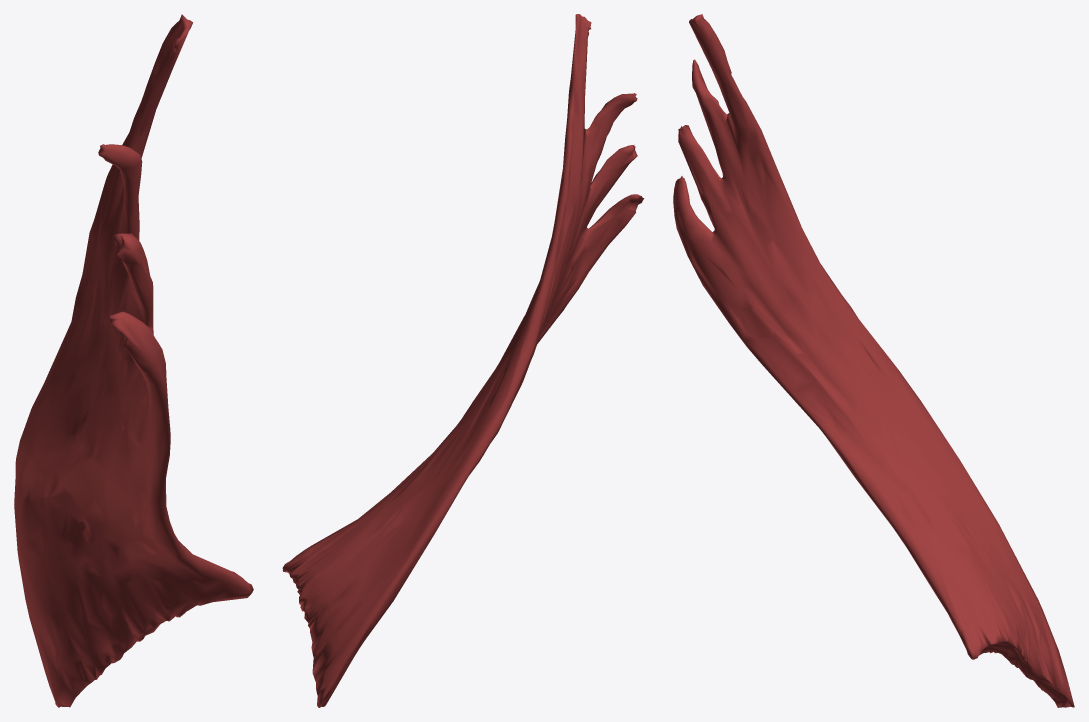
File: levator-scapulae-l.glb
3 renders of one model, left to right at view 1: azimuth 30°, elevation 25°; view 2: azimuth 150°, elevation 25°; view 3: azimuth 270°, elevation 25°, orthographic. The views are drawn at different scales.
Parts seen in each view (by area): view 1: Levator scapulae.l; view 2: Levator scapulae.l; view 3: Levator scapulae.l.
Part boxes in pixels (x1=…): Levator scapulae.l: x1=14, y1=14, x2=253, y2=707; Levator scapulae.l: x1=282, y1=14, x2=644, y2=707; Levator scapulae.l: x1=673, y1=14, x2=1074, y2=707.
Bounding box in the file's own units: 0.0614 × 0.1529 × 0.0859.
